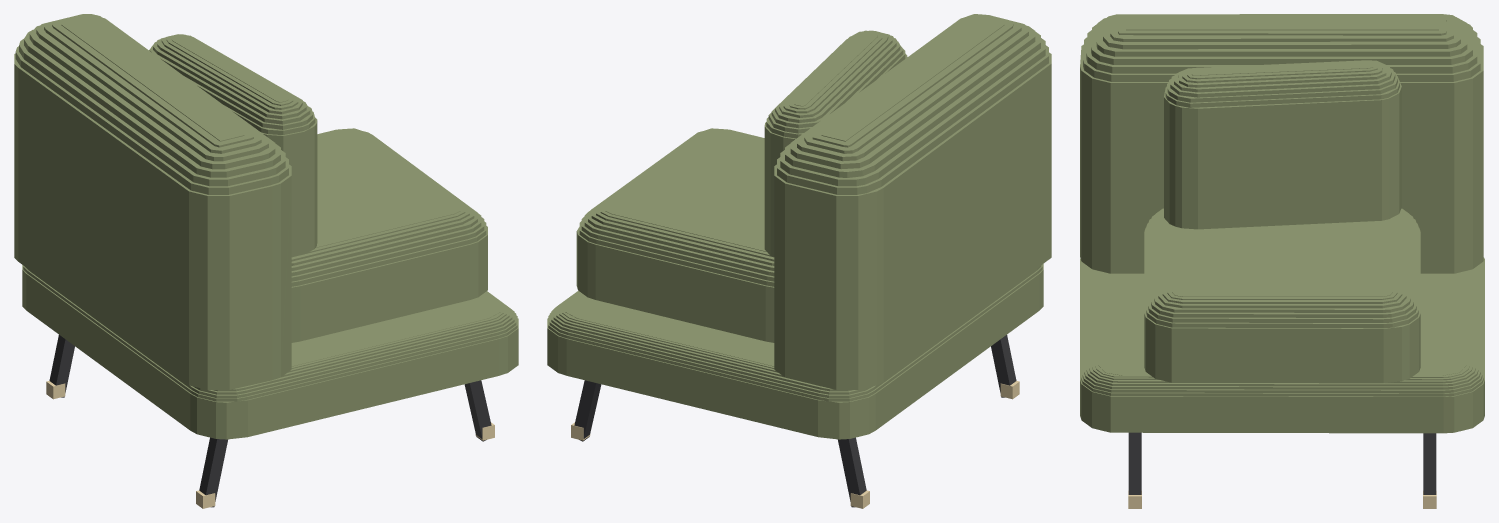
The model's file is SM_Armchair_Green.fbx.
The picture shows the model from 3 angles, left to right: view 1: azimuth 30°, elevation 25°; view 2: azimuth 150°, elevation 25°; view 3: azimuth 270°, elevation 25°; orthographic projection.
Parts seen in each view (by area): view 1: SM_Armchair_Green; view 2: SM_Armchair_Green; view 3: SM_Armchair_Green.
Part boxes in pixels (x1,y1,x2,y2): SM_Armchair_Green: (14,14,518,508); SM_Armchair_Green: (547,14,1051,508); SM_Armchair_Green: (1080,14,1484,508).
Bounding box in the file's own units: 82 × 86.31 × 88.
